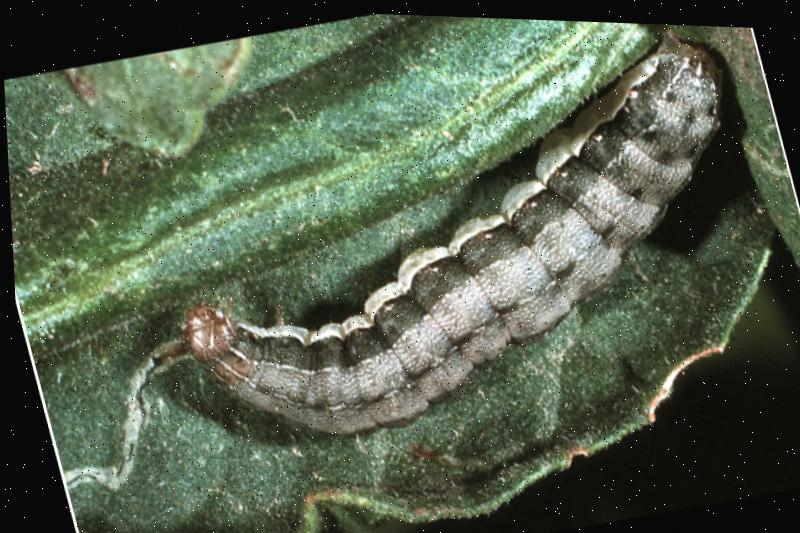fall-armyworm: (178, 27, 721, 431)
